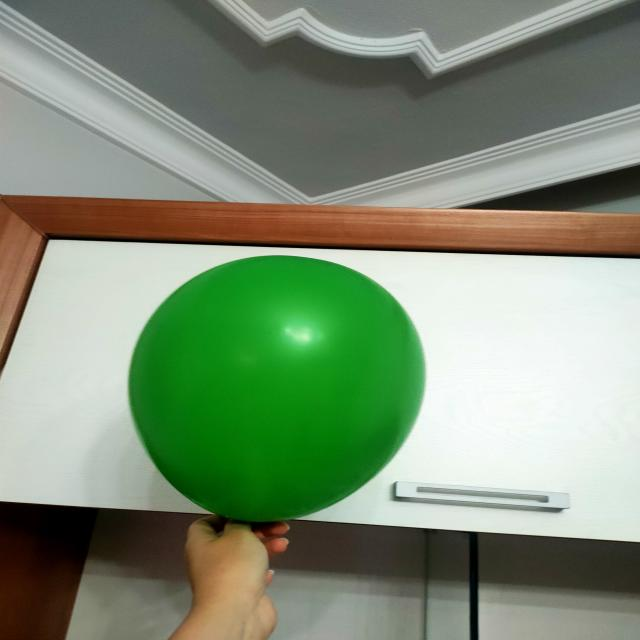green: (130, 254, 428, 530)
